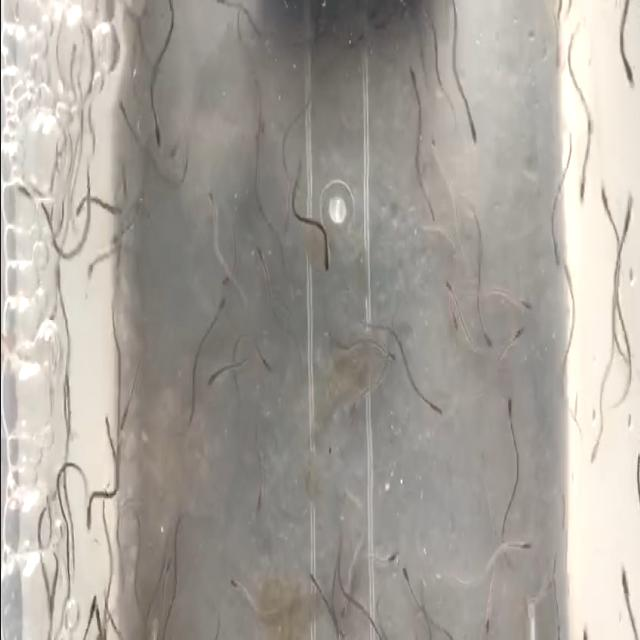active_glass_eel: (459, 88, 479, 152), (584, 420, 607, 469), (618, 188, 634, 256), (576, 154, 594, 214), (556, 250, 574, 308), (594, 175, 612, 223), (102, 224, 129, 256), (506, 320, 528, 358), (336, 578, 354, 624), (100, 408, 117, 456), (548, 212, 564, 262), (616, 560, 634, 604), (406, 61, 424, 105), (512, 292, 538, 322), (444, 298, 464, 336), (479, 596, 496, 640), (168, 115, 182, 168), (439, 266, 459, 303), (317, 240, 333, 284), (202, 178, 218, 222), (424, 395, 444, 429), (82, 257, 102, 291), (506, 526, 532, 552), (116, 100, 136, 132), (120, 395, 132, 447), (620, 46, 634, 90), (253, 246, 270, 282), (480, 318, 496, 356), (399, 558, 416, 592), (96, 596, 110, 636), (500, 394, 514, 433), (427, 138, 443, 172), (209, 290, 224, 326), (85, 496, 98, 536), (203, 363, 219, 395), (378, 337, 396, 365), (252, 482, 264, 522), (218, 262, 234, 292), (74, 194, 92, 218), (86, 590, 96, 632), (256, 348, 276, 368), (152, 96, 160, 146), (229, 572, 246, 594), (160, 550, 170, 584), (386, 548, 400, 572), (576, 621, 592, 640)
